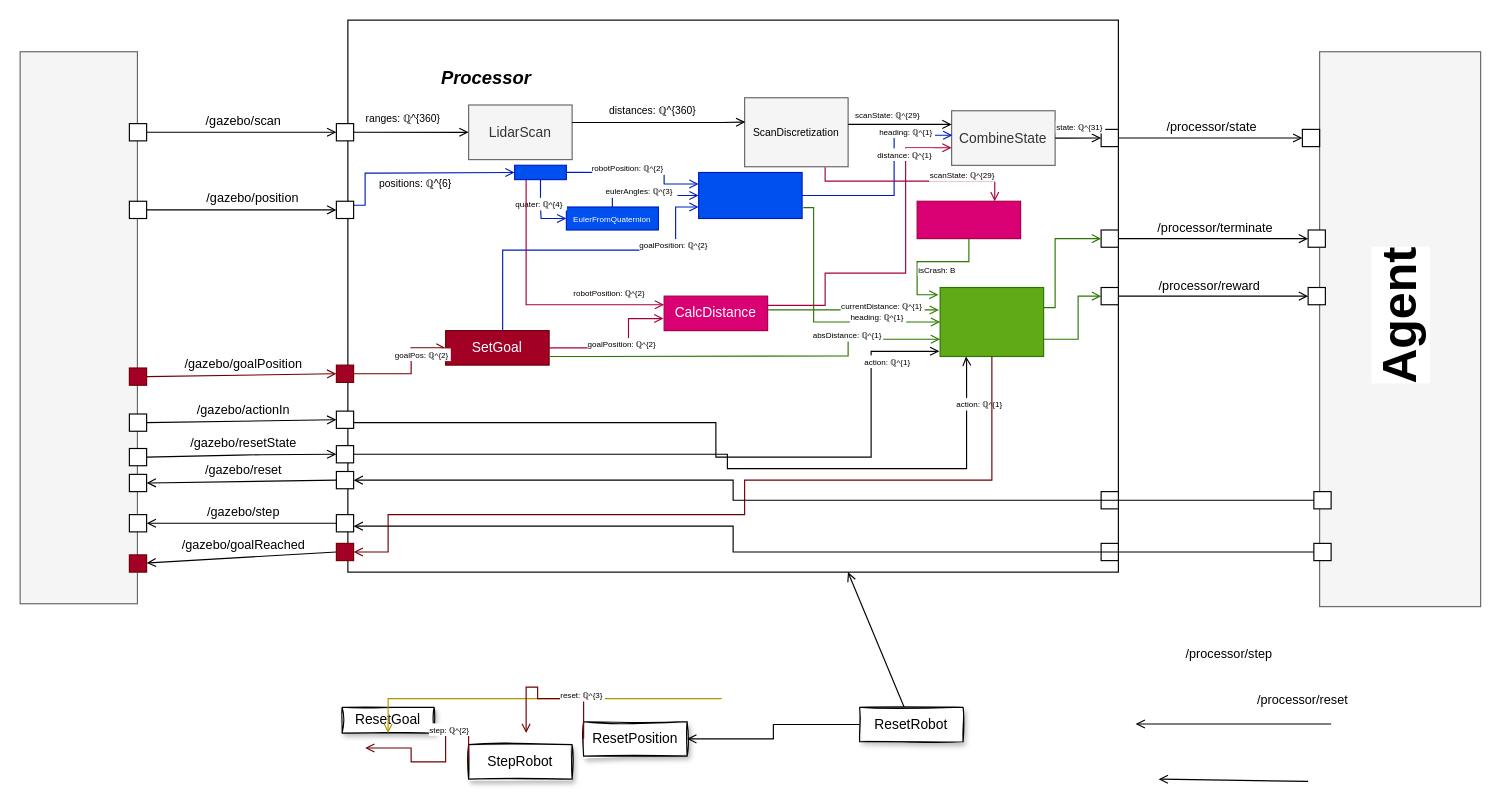
The diagram is 1501 pixels wide and 811 high, and some of its shapes have lost their labels. The centre of each missing label's shape, as x and y in pixels:
CalcHeading: point (749, 194)
CalcReward: point (991, 321)
CheckCrash: point (968, 219)
Environment: point (78, 327)
GetQuater: point (539, 172)
